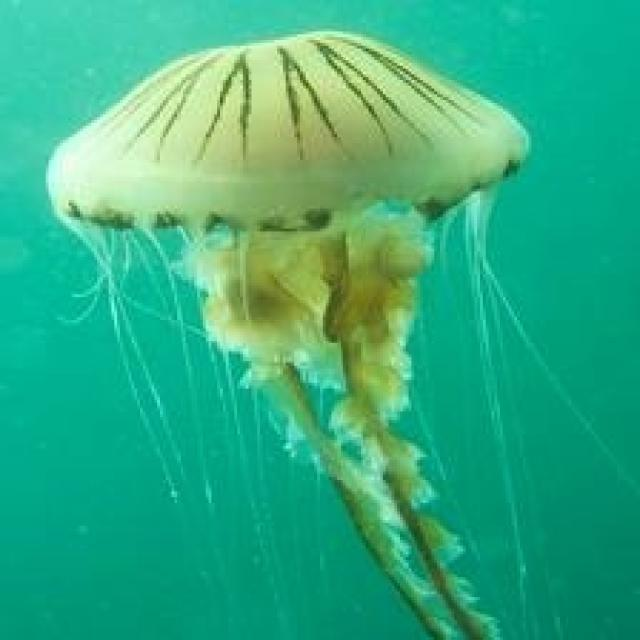Box-jellyfish: (43, 26, 637, 637)
